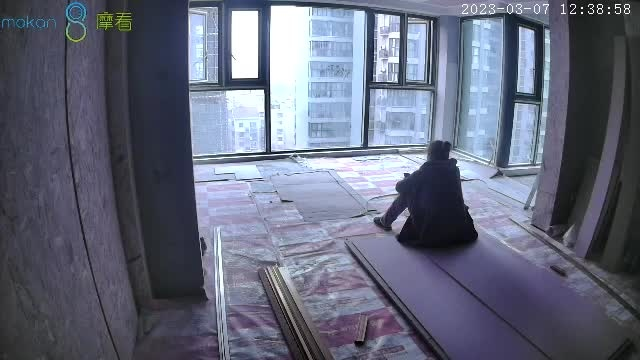people: (373, 139, 477, 249)
window: (188, 4, 552, 169)
